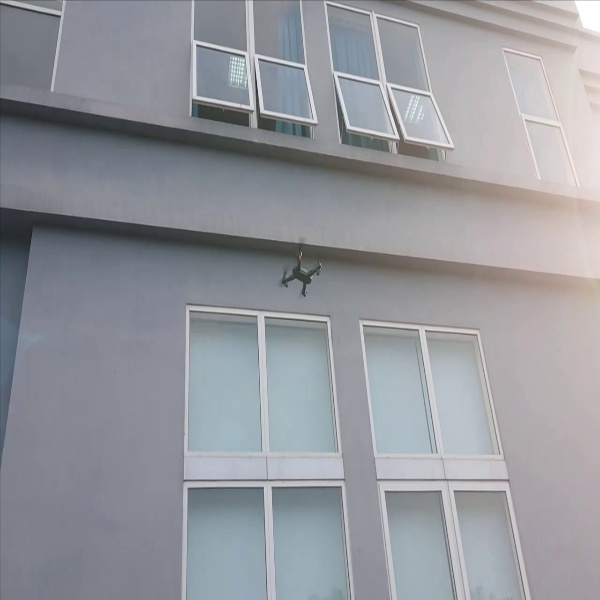drone: (263, 237, 337, 304)
